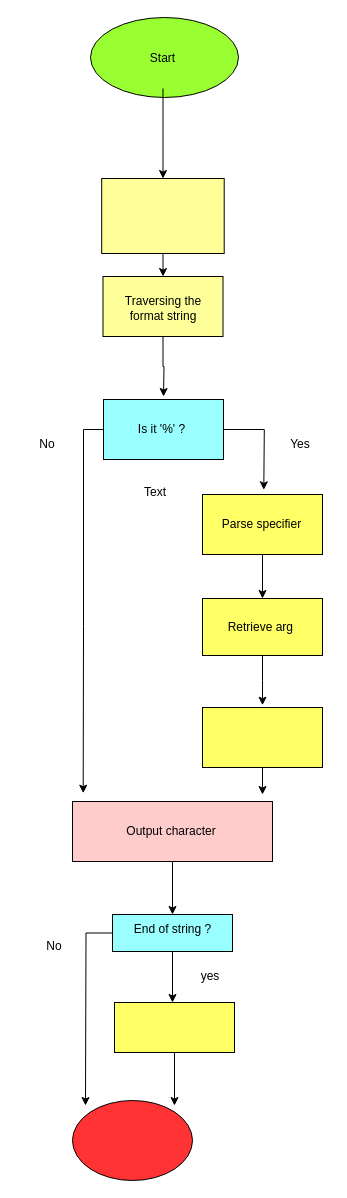
This 347x1198 diagram has some shape labels left out. The centre of each missing label's shape, as x and y in pixels:
"Convert and format" belongs at point (262, 737).
"END" belongs at point (132, 1140).
"Parsing the format string" belongs at point (162, 216).
"Return char count" belongs at point (174, 1027).
